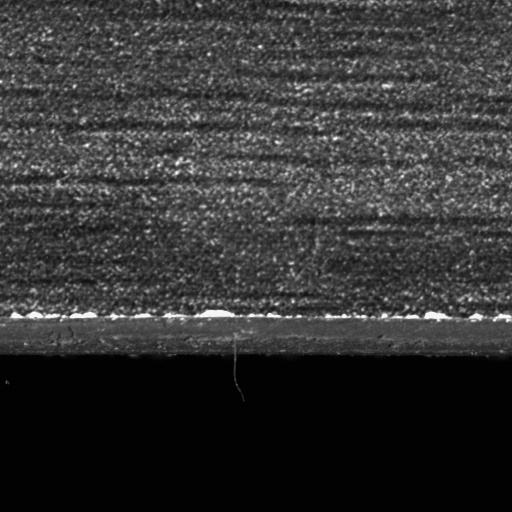huashang: (9, 310, 97, 320), (194, 308, 234, 319), (422, 311, 452, 321)
